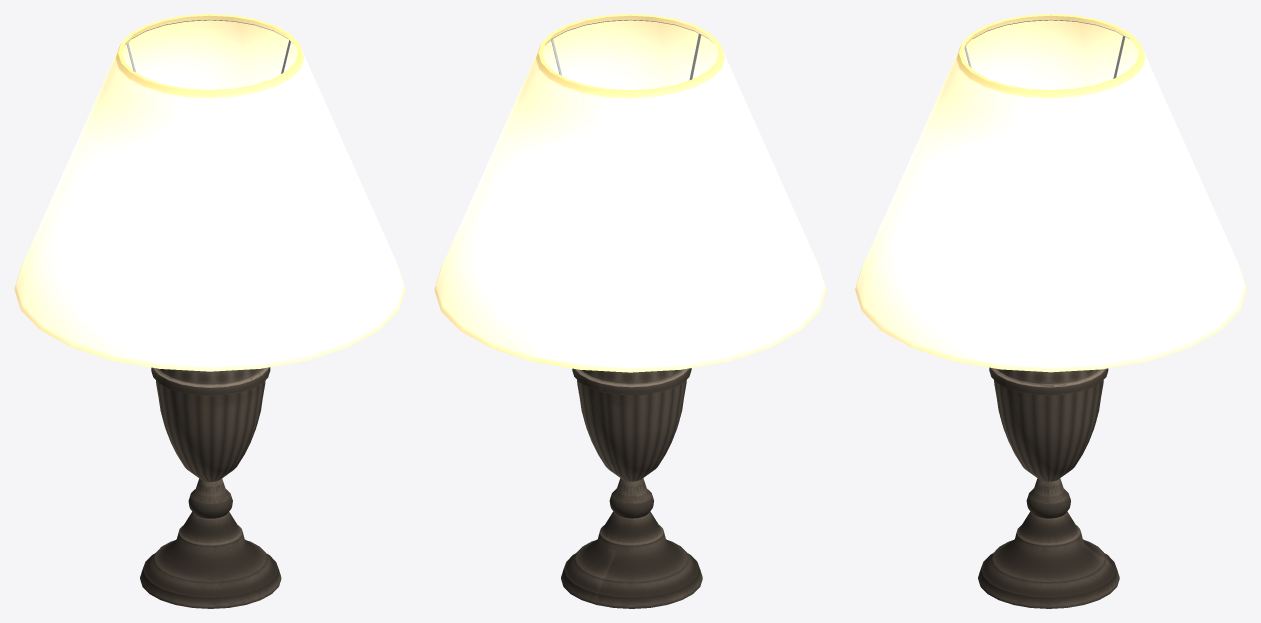
File: table_lamp.fbx
3 renders of one model, left to right at view 1: azimuth 30°, elevation 25°; view 2: azimuth 150°, elevation 25°; view 3: azimuth 270°, elevation 25°, orthographic.
Parts seen in each view (by area): view 1: lamp lowpoly; view 2: lamp lowpoly; view 3: lamp lowpoly.
Part boxes in pixels (bbox=[...]): lamp lowpoly: bbox=[14, 14, 405, 608]; lamp lowpoly: bbox=[434, 14, 826, 608]; lamp lowpoly: bbox=[855, 14, 1246, 608].
Bounding box in the file's own units: 40.61 × 60.17 × 40.61.
